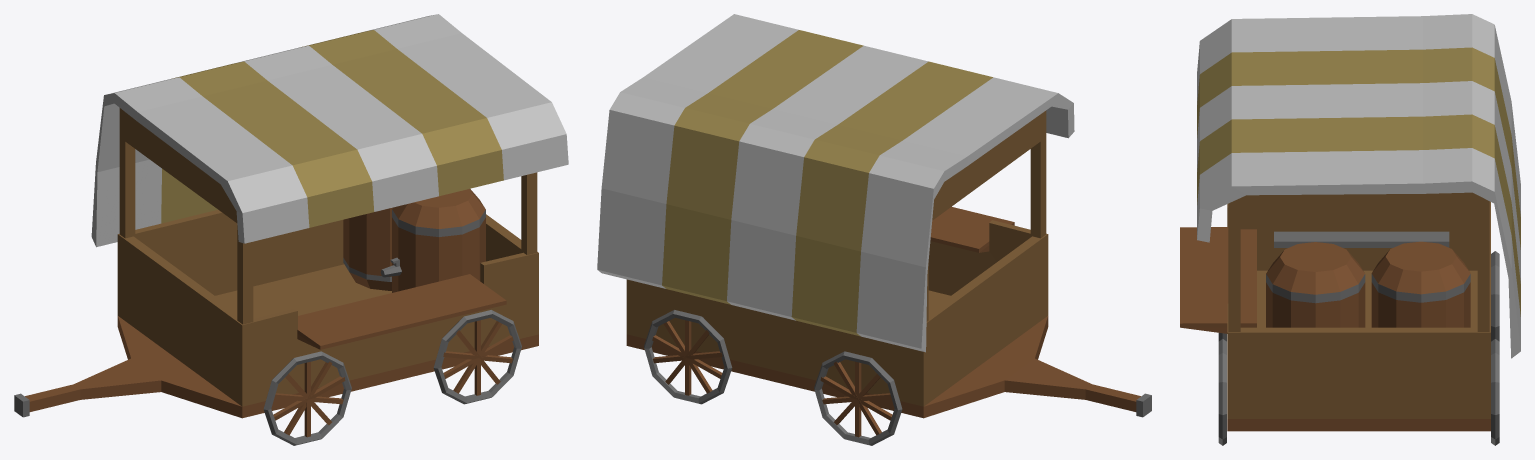
File: carroca_bebidas_comcapota.fbx
3 views of the same model, side by side, from view 1: azimuth 30°, elevation 25°; view 2: azimuth 150°, elevation 25°; view 3: azimuth 270°, elevation 25° (orthographic). The views are drawn at different scales.
Visible parts, largest first — view 1: Cube.003, Cube, Cylinder, Torus.001, Cube.002; view 2: Cube.003, Cube, Torus.001, Cube.002; view 3: Cube.003, Cube, Cylinder, Cube.002, Torus.001, Cube.001.
Boxes of the visible parts, bbox=[...] form: Cube.003: bbox=[91, 14, 568, 247]; Cube: bbox=[14, 209, 538, 418]; Cylinder: bbox=[343, 189, 485, 292]; Torus.001: bbox=[263, 310, 521, 445]; Cube.002: bbox=[119, 108, 537, 324]; Cube.003: bbox=[597, 14, 1074, 352]; Cube: bbox=[626, 206, 1151, 418]; Torus.001: bbox=[644, 310, 902, 445]; Cube.002: bbox=[926, 110, 1046, 321]; Cube.003: bbox=[1197, 14, 1520, 358]; Cube: bbox=[1180, 201, 1490, 431]; Cylinder: bbox=[1266, 241, 1470, 327]; Cube.002: bbox=[1228, 192, 1489, 331]; Torus.001: bbox=[1218, 251, 1499, 445]; Cube.001: bbox=[1274, 231, 1449, 247].
Size of the model in its own units: 1168 by 664 by 688.
